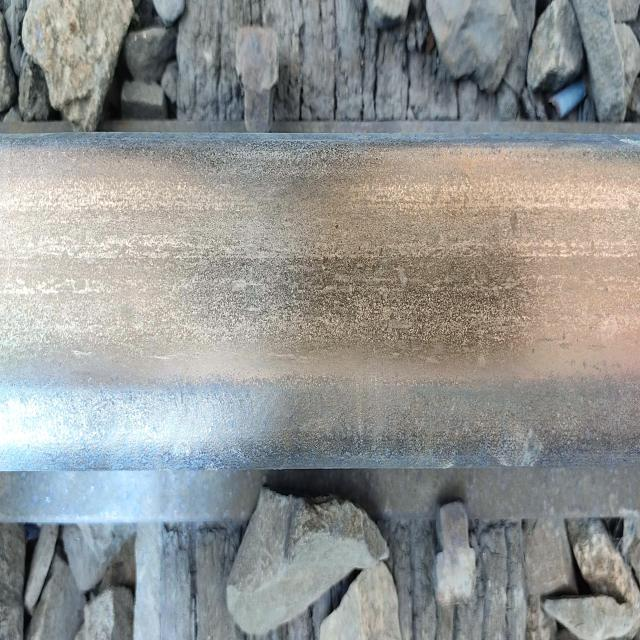Good Fasteners: (236, 26, 279, 131), (435, 502, 475, 605)
